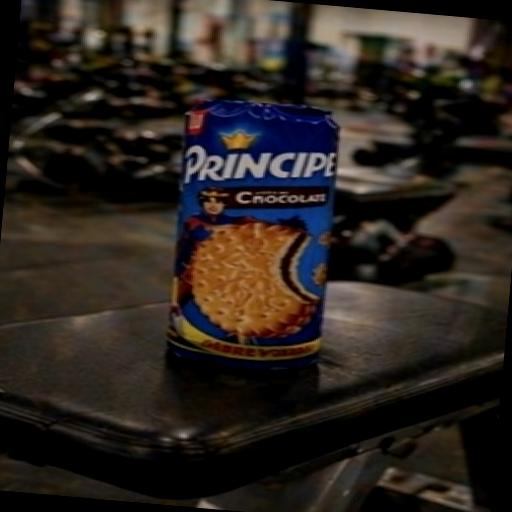prince: (52, 48, 482, 428)
